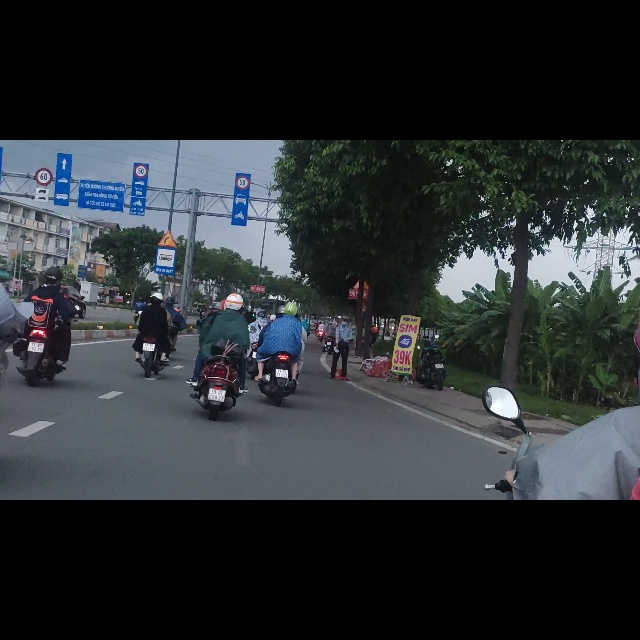bien_nguy_hiem: (154, 190, 176, 240), (34, 49, 52, 82), (157, 160, 176, 191), (34, 84, 50, 111), (236, 63, 249, 89), (134, 42, 147, 68)
